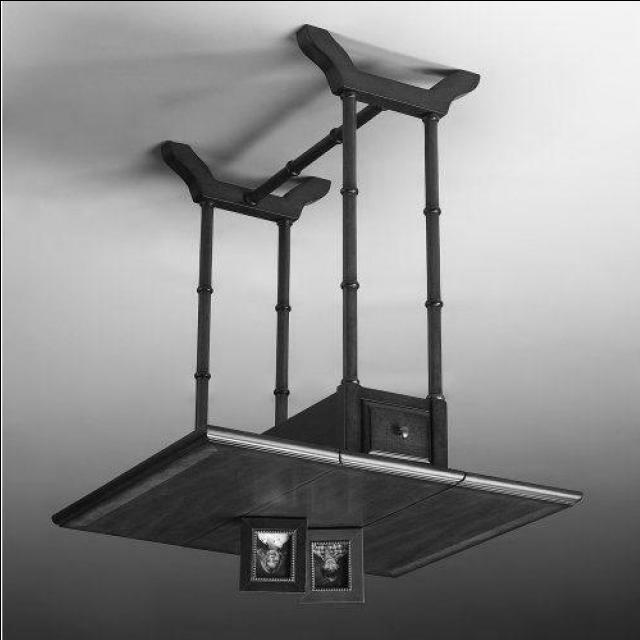table: (48, 22, 582, 582)
